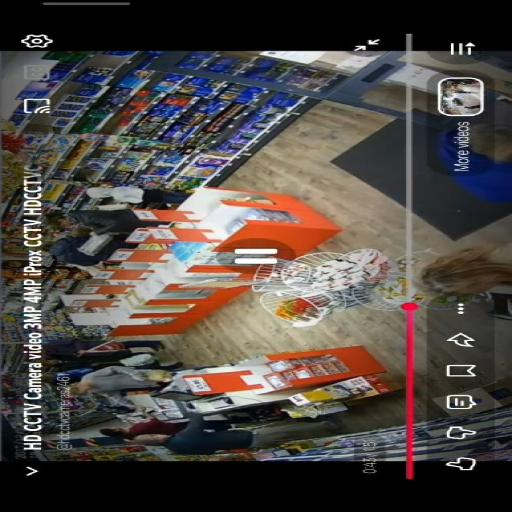workers: (395, 241, 512, 304), (49, 209, 142, 266), (64, 363, 186, 401), (46, 335, 156, 370), (124, 429, 258, 455), (96, 416, 191, 445), (83, 177, 158, 207)
